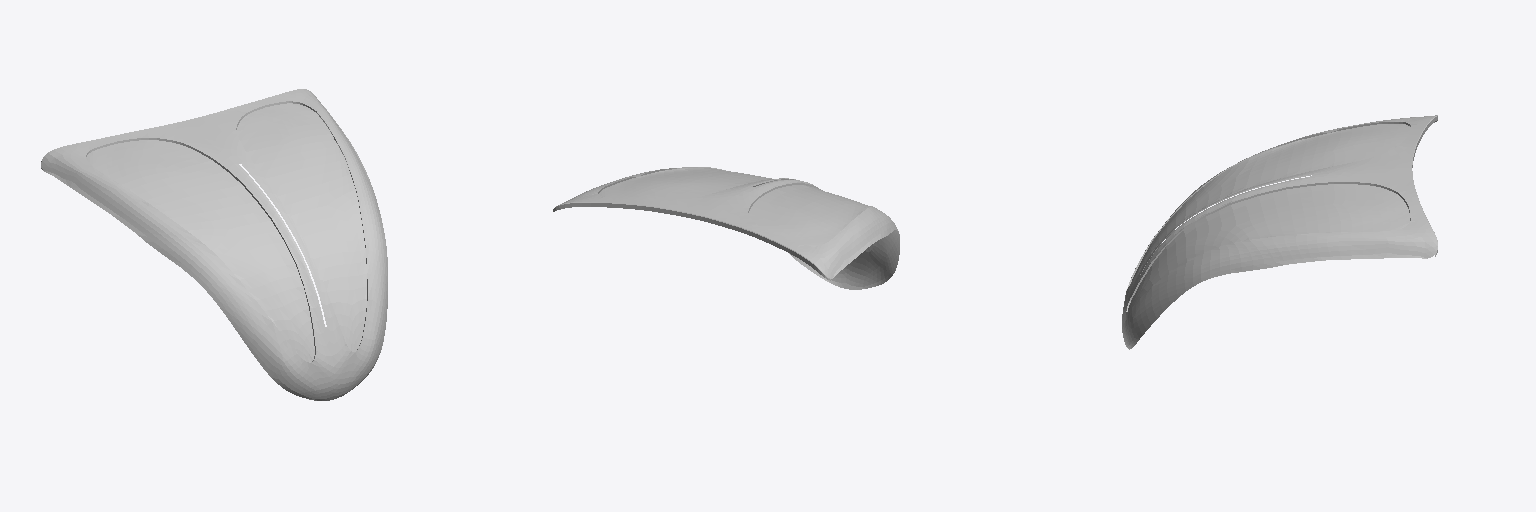
File: Cofre.obj
The picture shows the model from 3 angles: view 1: azimuth 30°, elevation 25°; view 2: azimuth 150°, elevation 25°; view 3: azimuth 270°, elevation 25°; orthographic projection.
Parts seen in each view (by area): view 1: VWBFrHod_pivot; view 2: VWBFrHod_pivot; view 3: VWBFrHod_pivot.
Part boxes in pixels (x1,y1,x2,y2): VWBFrHod_pivot: (41,89,387,400); VWBFrHod_pivot: (553,167,899,289); VWBFrHod_pivot: (1122,115,1437,349).
Bounding box in the file's own units: 4.92 × 2.99 × 4.86.